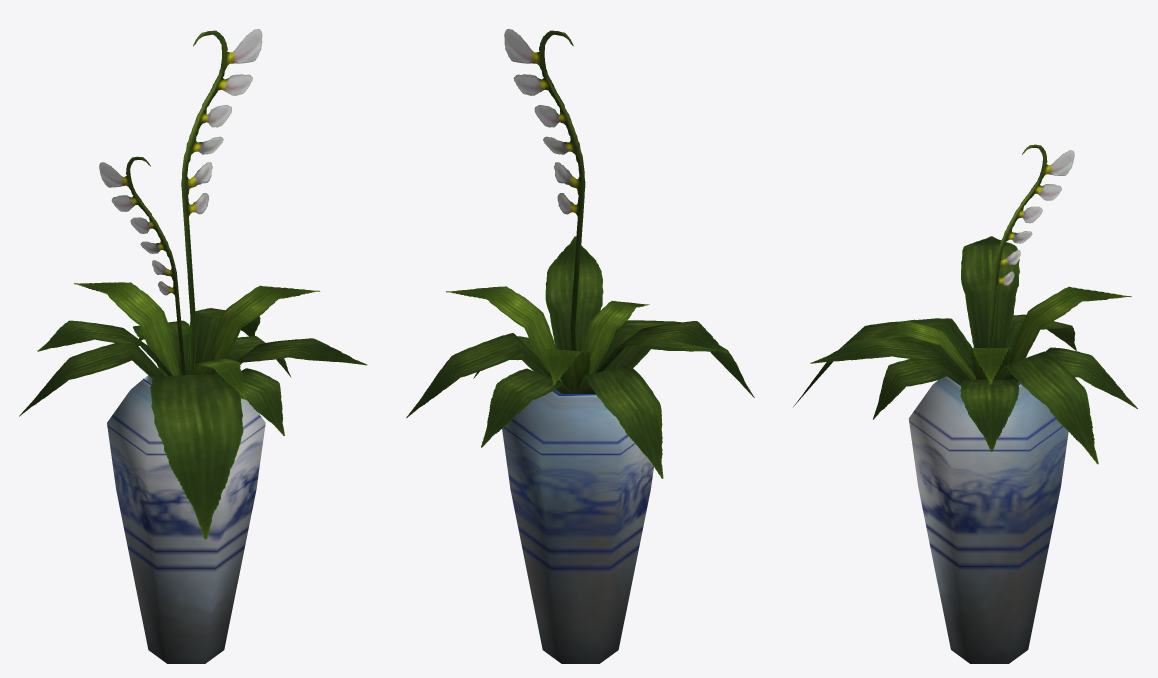
Rendered from wm_灌木曲兰02.fbx.
The picture shows the model from 3 angles, left to right: view 1: azimuth 30°, elevation 25°; view 2: azimuth 150°, elevation 25°; view 3: azimuth 270°, elevation 25°; orthographic projection.
Parts seen in each view (by area): view 1: wm_灌木曲兰02; view 2: wm_灌木曲兰02; view 3: wm_灌木曲兰02.
Boxes of the visible parts, x1,y1,x2,y2 form: wm_灌木曲兰02: (19, 29, 367, 663); wm_灌木曲兰02: (406, 29, 754, 663); wm_灌木曲兰02: (793, 144, 1137, 663).
Bounding box in the file's own units: 135 × 271 × 137.
